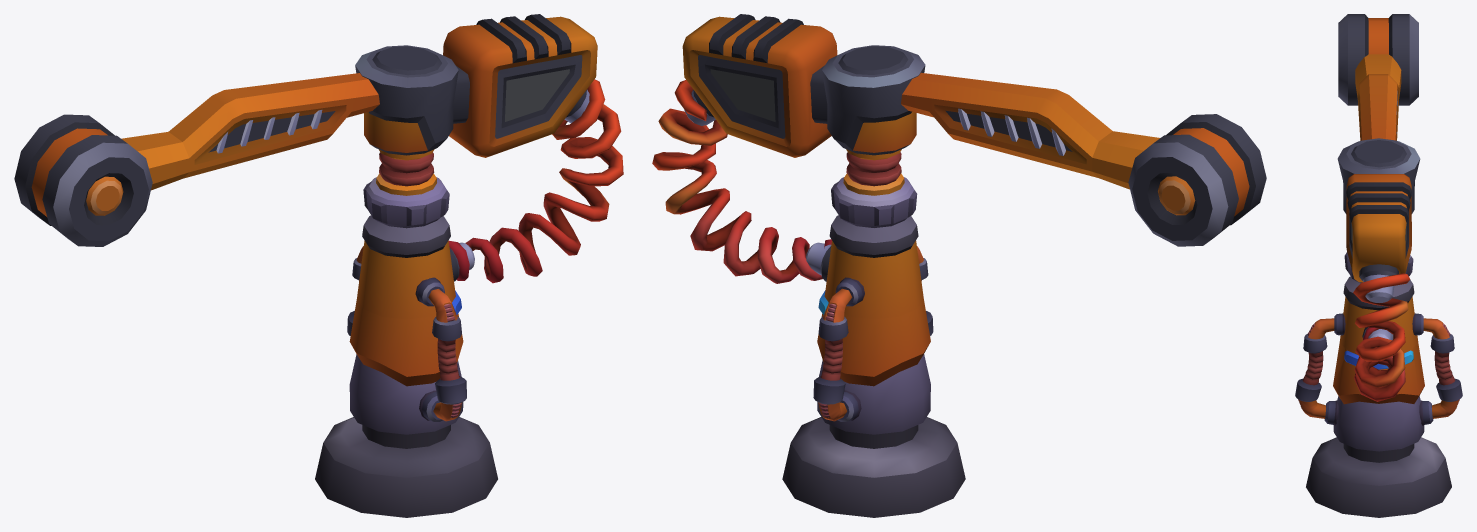
Rendered from SM_Сrane_01.fbx.
The picture shows the model from 3 angles, left to right: view 1: azimuth 30°, elevation 25°; view 2: azimuth 150°, elevation 25°; view 3: azimuth 270°, elevation 25°; orthographic projection. The views are drawn at different scales.
Parts seen in each view (by area): view 1: SM_Сrane_01; view 2: SM_Сrane_01; view 3: SM_Сrane_01.
Boxes of the visible parts, bbox=[...] form: SM_Сrane_01: bbox=[14, 14, 623, 517]; SM_Сrane_01: bbox=[652, 14, 1266, 517]; SM_Сrane_01: bbox=[1295, 14, 1462, 517].
Size of the model in its own units: 18.86 by 13.15 by 5.83.
